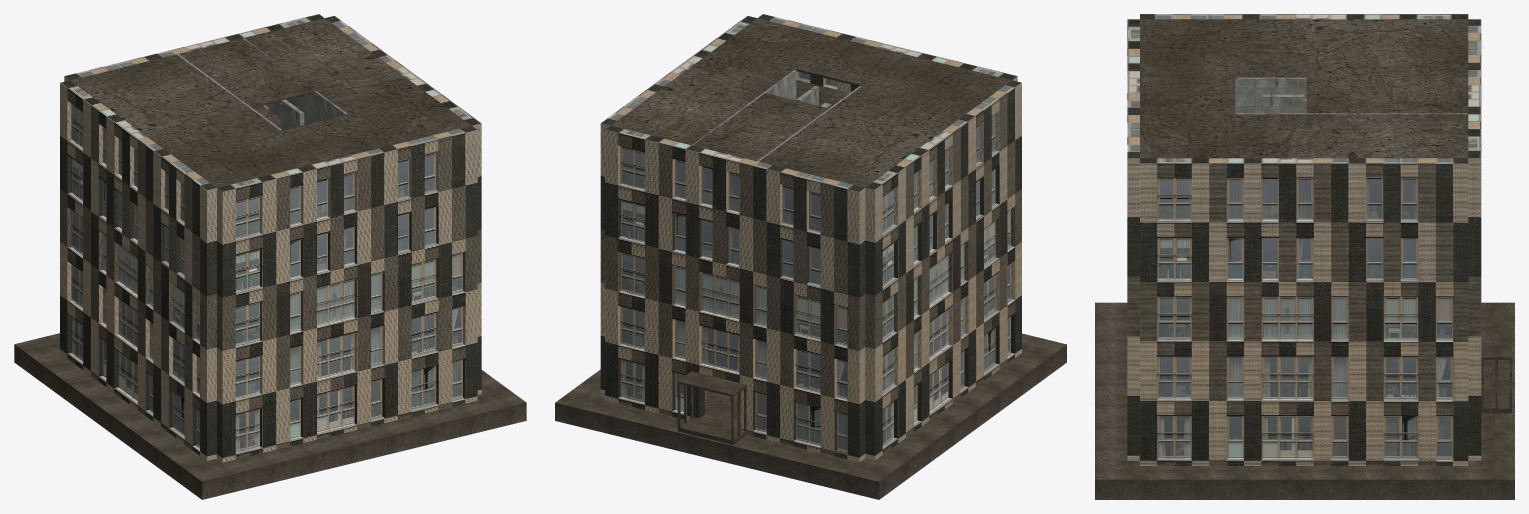
File: BagSS04base_500.fbx
3 renders of one model, left to right at view 1: azimuth 30°, elevation 25°; view 2: azimuth 150°, elevation 25°; view 3: azimuth 270°, elevation 25°, orthographic. The views are drawn at different scales.
Visible parts, largest first — view 1: baseMain500, baseFloors500, base_base500, baseStairwel500; view 2: baseMain500, baseFloors500, base_base500, baseStairwel500; view 3: baseMain500, baseFloors500, base_base500, baseStairwel500.
Part boxes in pixels (box(x1,y1,x2,y2)): baseMain500: box(60, 14, 481, 462); baseFloors500: box(70, 18, 471, 456); base_base500: box(14, 333, 526, 499); baseStairwel500: box(177, 38, 347, 130); baseMain500: box(600, 14, 1021, 462); baseFloors500: box(611, 18, 1011, 422); base_base500: box(555, 333, 1066, 499); baseStairwel500: box(692, 69, 861, 402); baseMain500: box(1127, 14, 1481, 465); baseFloors500: box(1139, 19, 1468, 458); base_base500: box(1095, 302, 1514, 499); baseStairwel500: box(1235, 77, 1468, 114).
Bounding box in the file's own units: 26.1 × 22.2 × 26.17.
